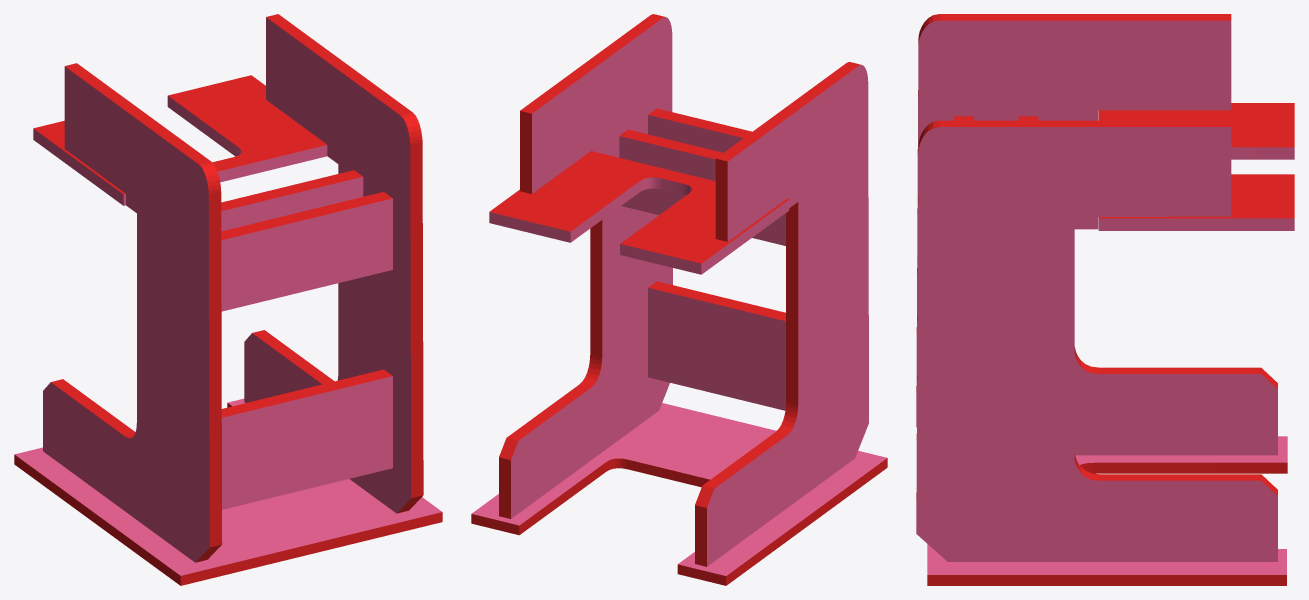
File: 2DTo3D.FBX
3 views of the same model, side by side, from view 1: azimuth 30°, elevation 25°; view 2: azimuth 150°, elevation 25°; view 3: azimuth 270°, elevation 25° (orthographic). The views are drawn at different scales.
Parts seen in each view (by area): view 1: 左側版, 右側版, 底板, 補強板, 元件固定板, 頂板, 上補強板; view 2: 左側版, 右側版, 底板, 頂板, 補強板, 上補強板, 元件固定板; view 3: 右側版, 左側版, 底板, 頂板.
Boxes of the visible parts, <box> form: 左側版: <box>43,63,222,562</box>; 右側版: <box>244,14,423,513</box>; 底板: <box>14,398,442,585</box>; 補強板: <box>221,369,392,509</box>; 元件固定板: <box>221,192,392,311</box>; 頂板: <box>33,75,327,205</box>; 上補強板: <box>221,170,363,231</box>; 左側版: <box>695,62,868,566</box>; 右側版: <box>499,14,672,518</box>; 底板: <box>471,403,887,585</box>; 頂板: <box>489,151,789,274</box>; 補強板: <box>648,281,785,410</box>; 上補強板: <box>619,129,785,245</box>; 元件固定板: <box>648,108,751,152</box>; 右側版: <box>916,120,1277,561</box>; 左側版: <box>916,14,1277,455</box>; 底板: <box>927,436,1287,585</box>; 頂板: <box>1098,103,1294,230</box>.
Size of the model in its own units: 53.26 by 61.4 by 79.87.
